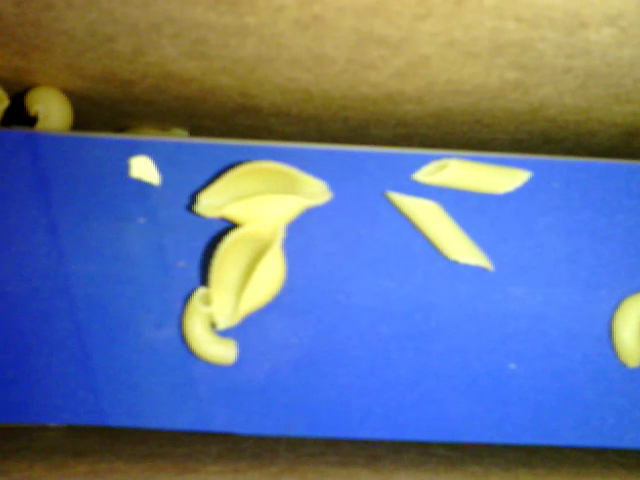elbow: (183, 283, 240, 370)
penne: (385, 191, 498, 271), (410, 156, 535, 199)
shell: (189, 160, 335, 229), (207, 214, 287, 330), (24, 83, 75, 140)
